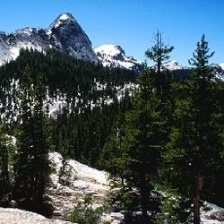neutral: (1, 3, 223, 223)
